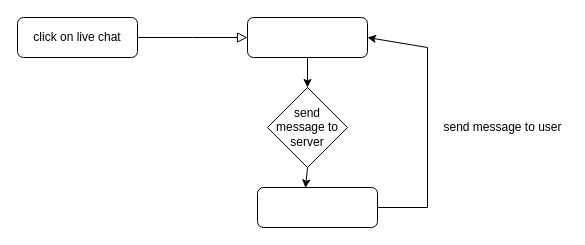
This 585x245 diagram has some shape labels left out. Here are the shapes that lost their labels. From the top down, the centre of each, then its label:
the point at 307,37: live chat
the point at 317,207: server
